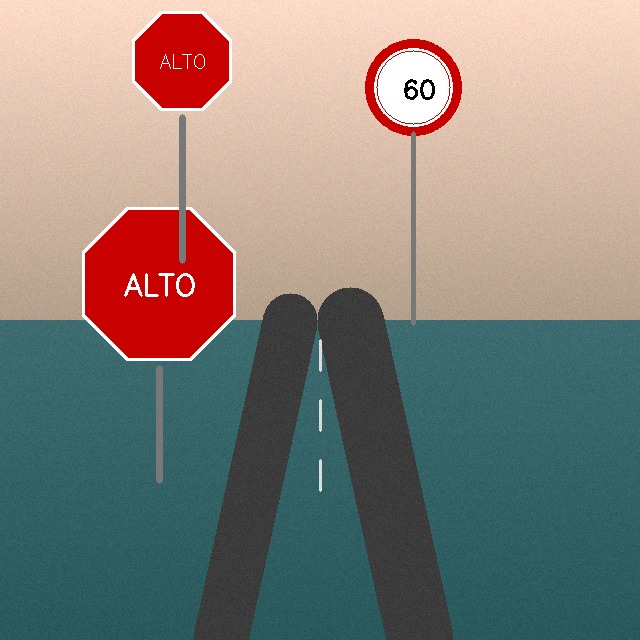alto: (75, 200, 243, 368), (127, 6, 238, 117)
velocidad: (367, 41, 459, 133)
